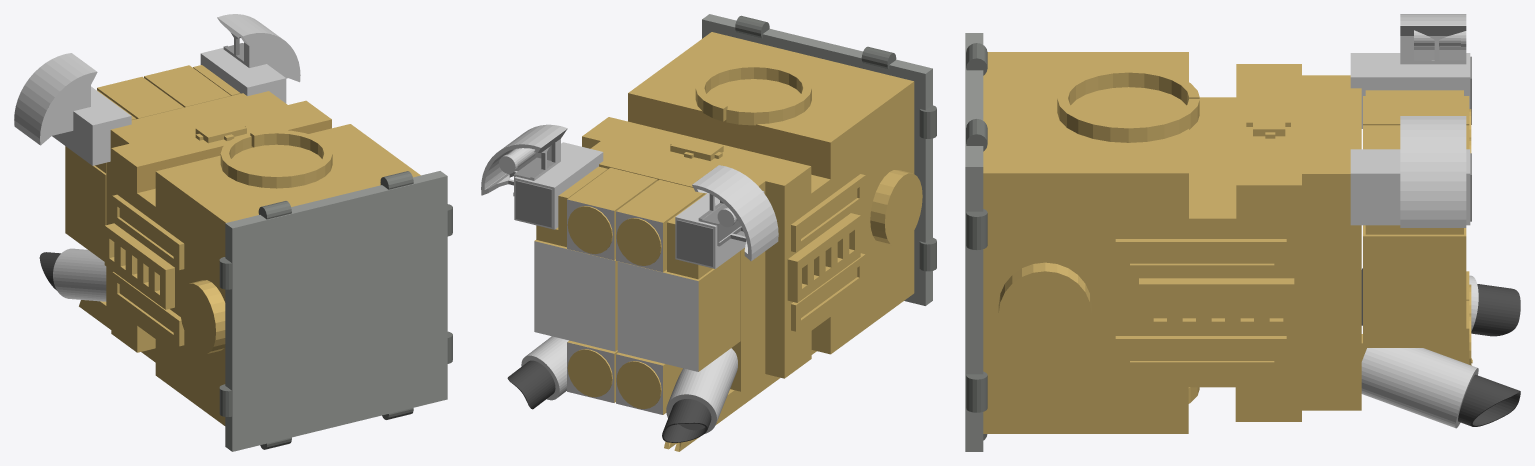
Rendered from high-energy-transient-explorer.glb.
The picture shows the model from 3 angles, left to right: view 1: azimuth 30°, elevation 25°; view 2: azimuth 150°, elevation 25°; view 3: azimuth 270°, elevation 25°; orthographic projection. The views are drawn at different scales.
Visible parts, largest first — view 1: <LWODefault>; view 2: <LWODefault>; view 3: <LWODefault>.
Part boxes in pixels (bbox=[...]): <LWODefault>: bbox=[14, 14, 452, 451]; <LWODefault>: bbox=[481, 14, 936, 451]; <LWODefault>: bbox=[965, 14, 1520, 451].
Size of the model in its own units: 1.08 by 1.02 by 1.56.
4 materials, 4 textured.
